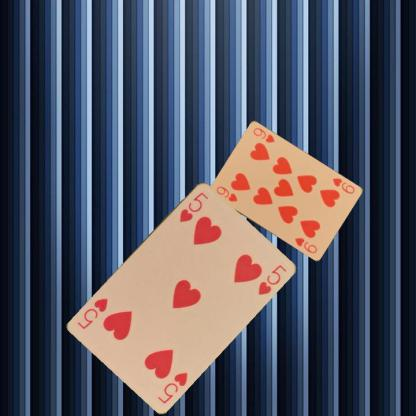5h: (155, 368, 189, 404), (177, 189, 210, 223)
9h: (329, 175, 356, 195), (214, 184, 238, 203)
